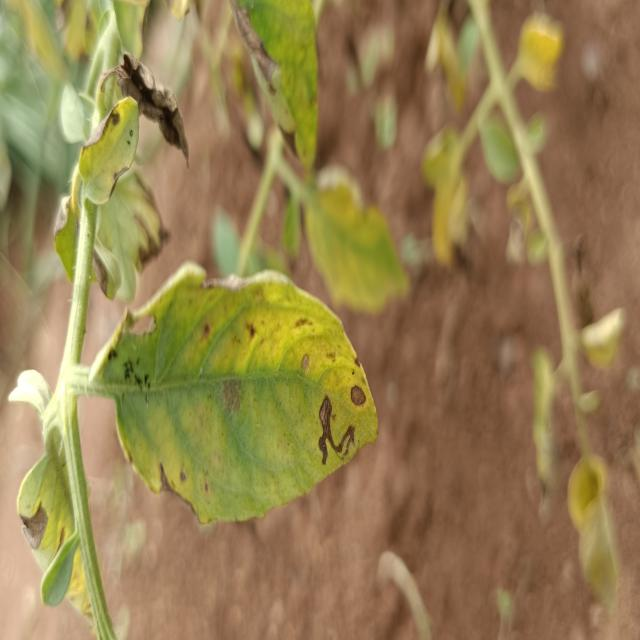tomato_early blight: (96, 260, 376, 527), (14, 418, 104, 640), (224, 0, 318, 165), (306, 173, 412, 317), (567, 455, 621, 608), (76, 92, 141, 206), (424, 117, 468, 265), (517, 19, 559, 95), (584, 309, 623, 377)
